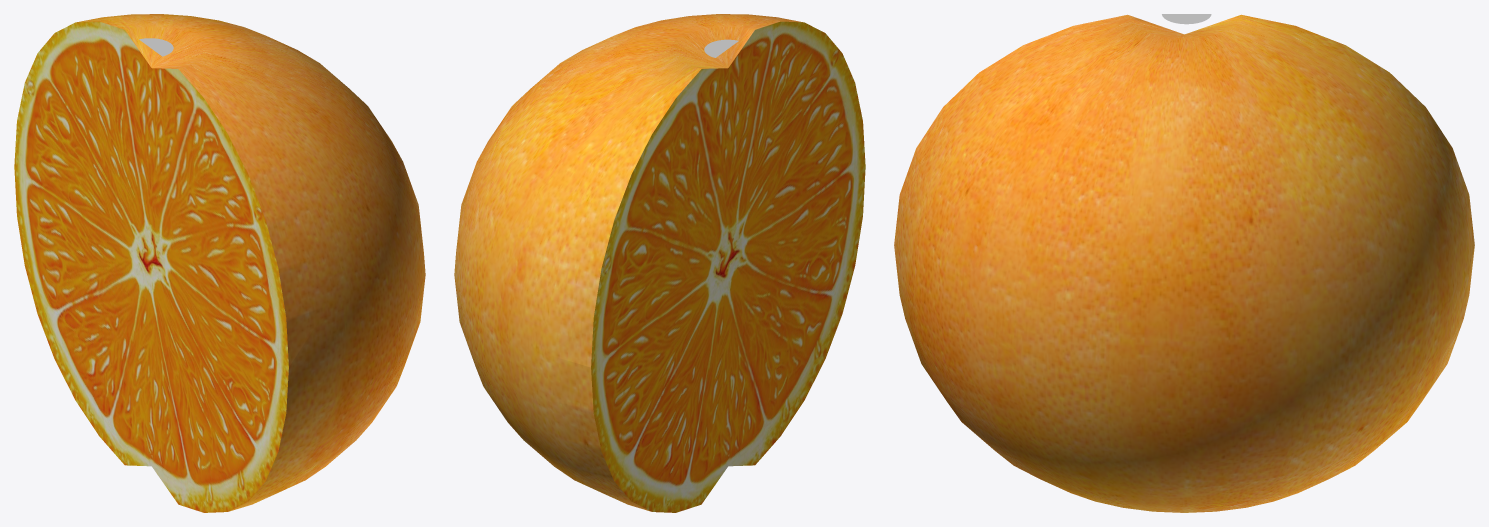
File: orange_half2.obj
The picture shows the model from 3 angles, left to right: view 1: azimuth 30°, elevation 25°; view 2: azimuth 150°, elevation 25°; view 3: azimuth 270°, elevation 25°; orthographic projection. The views are drawn at different scales.
Visible parts, largest first — view 1: Sphere01; view 2: Sphere01; view 3: Sphere01.
Boxes of the visible parts, bbox=[...] form: Sphere01: bbox=[14, 14, 425, 512]; Sphere01: bbox=[454, 14, 865, 512]; Sphere01: bbox=[894, 14, 1474, 512].
Size of the model in its own units: 30 by 52.59 by 60.
